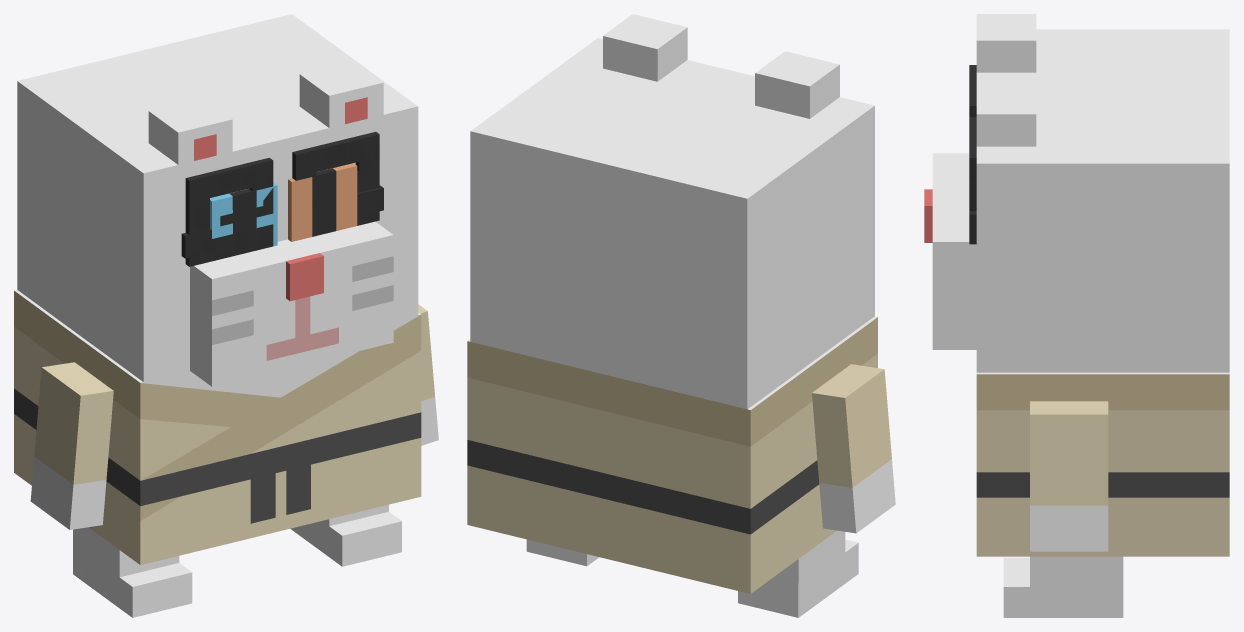
3 renders of one model, left to right at view 1: azimuth 30°, elevation 25°; view 2: azimuth 150°, elevation 25°; view 3: azimuth 270°, elevation 25°, orthographic.
Parts seen in each view (by area): view 1: Ch_35_Head, Ch_35, Ch_35_Hand_L, Ch_35_Eye_01, Ch_35_Leg_L, Ch_35_Eye_03_L, Ch_35_Leg_R, Ch_35_Eye_03_R, Ch_35_Hand_R, Ch_35_Eye_02; view 2: Ch_35_Head, Ch_35, Ch_35_Hand_L, Ch_35_Leg_L, Ch_35_Leg_R; view 3: Ch_35_Head, Ch_35, Ch_35_Hand_R, Ch_35_Leg_R, Ch_35_Eye_03_R.
Boxes of the visible parts, x1,y1,x2,y2 form: Ch_35_Head: (17,14,418,386); Ch_35: (14,290,421,564); Ch_35_Hand_L: (30,362,113,529); Ch_35_Eye_01: (210,163,357,246); Ch_35_Leg_L: (73,527,192,617); Ch_35_Eye_03_L: (185,157,273,266); Ch_35_Leg_R: (290,504,401,566); Ch_35_Eye_03_R: (292,131,379,225); Ch_35_Hand_R: (418,304,438,445); Ch_35_Eye_02: (181,185,383,258); Ch_35_Head: (470,14,874,409); Ch_35: (467,316,877,593); Ch_35_Hand_L: (812,364,895,533); Ch_35_Leg_L: (738,530,858,617); Ch_35_Leg_R: (526,539,599,566); Ch_35_Head: (924,14,1229,372); Ch_35: (976,372,1229,556); Ch_35_Hand_R: (1030,401,1108,551); Ch_35_Leg_R: (1003,556,1123,617); Ch_35_Eye_03_R: (969,117,976,244).
Bounding box in the file's own units: 7.36 × 9.29 × 5.27.
